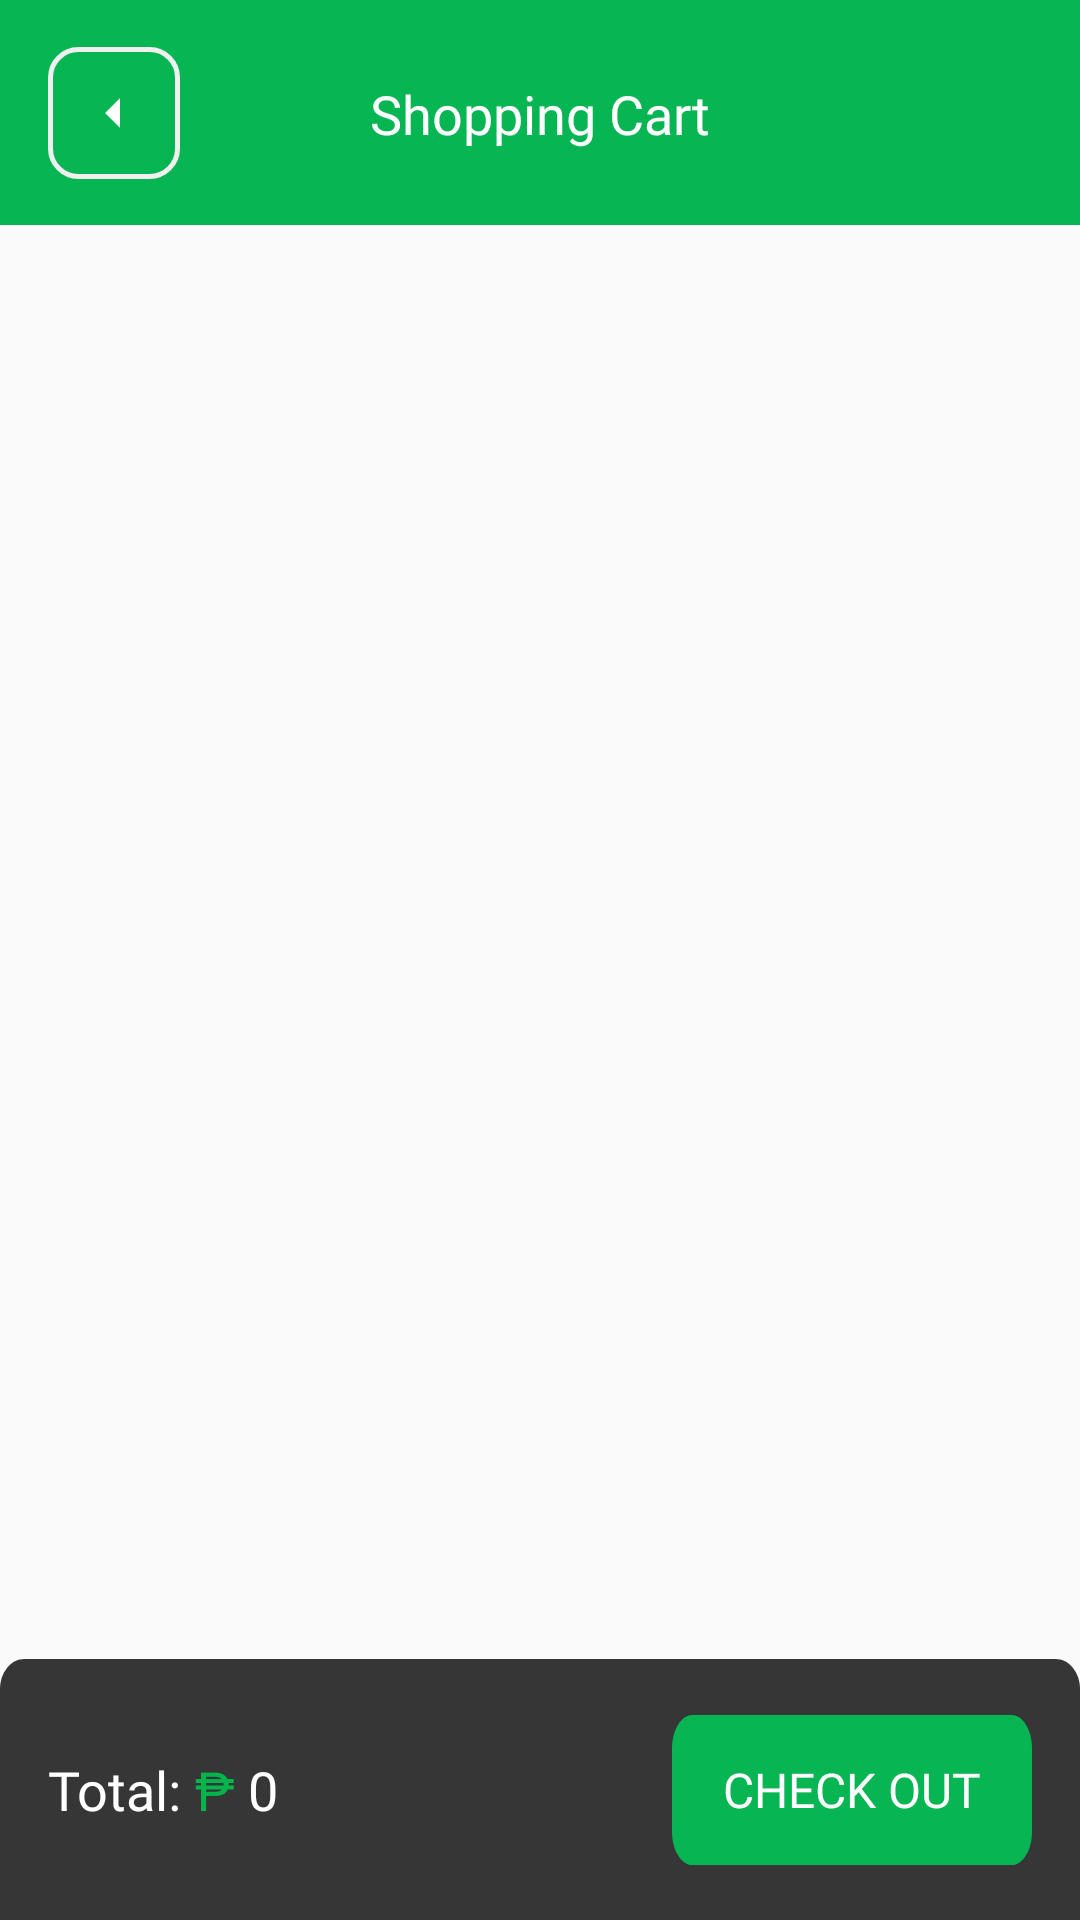

Icon bounding boxes for this 1080*1920 phone screenshot, format (left=x1, top=y1, right=x2, bottom=y2):
back: (left=48, top=47, right=180, bottom=179)
